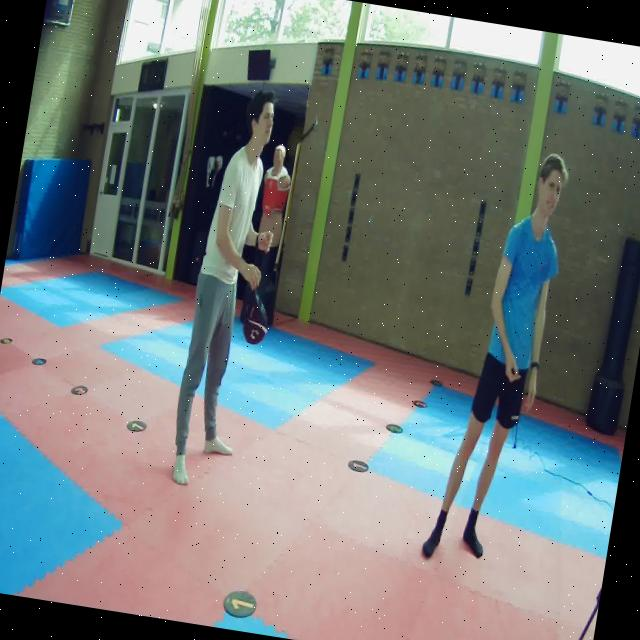paddle: (242, 287, 268, 345)
